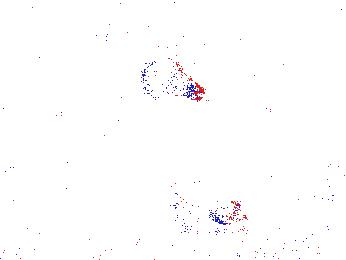flame jellyfish: (164, 173, 248, 229), (134, 56, 205, 103), (298, 158, 346, 212)
